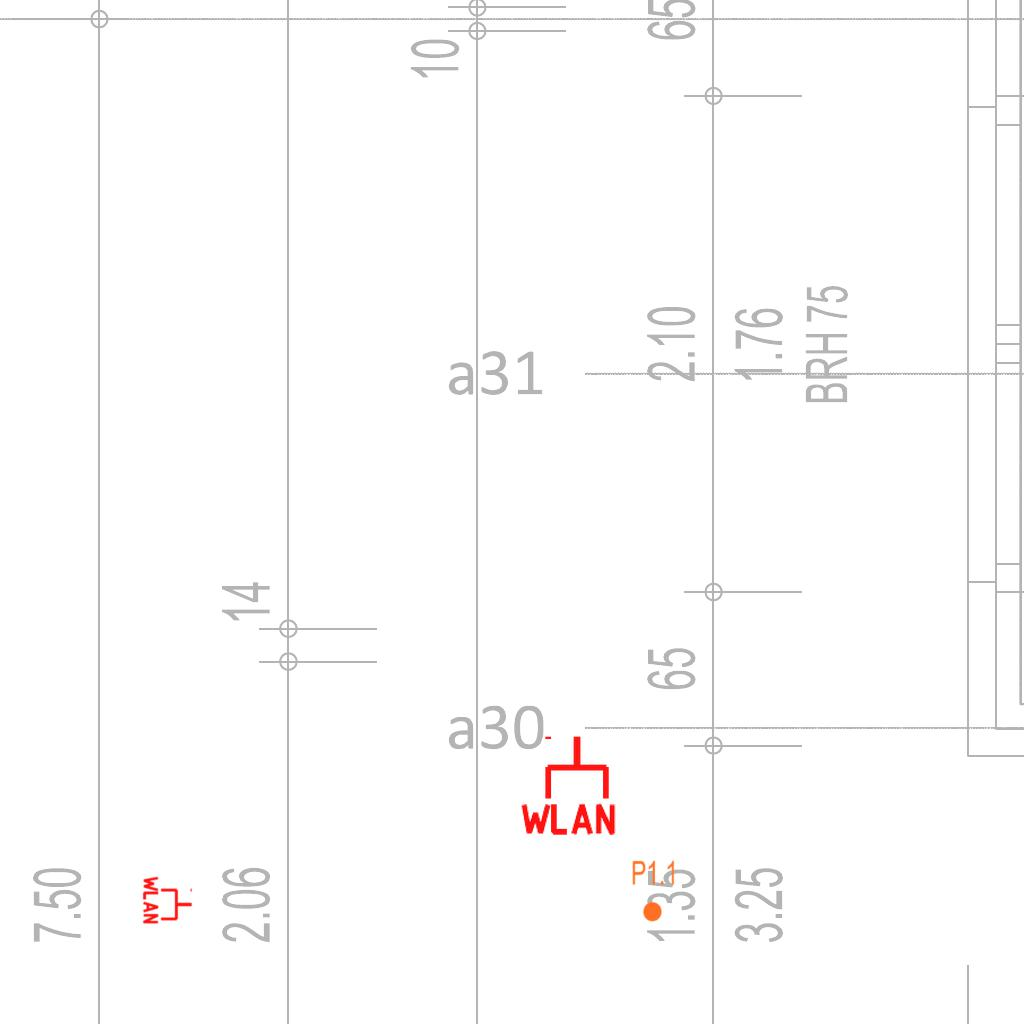Downlight_LED_Einbauleuchten_Flur: (631, 859, 677, 923)
WLAN: (516, 732, 620, 837), (142, 874, 194, 926)
